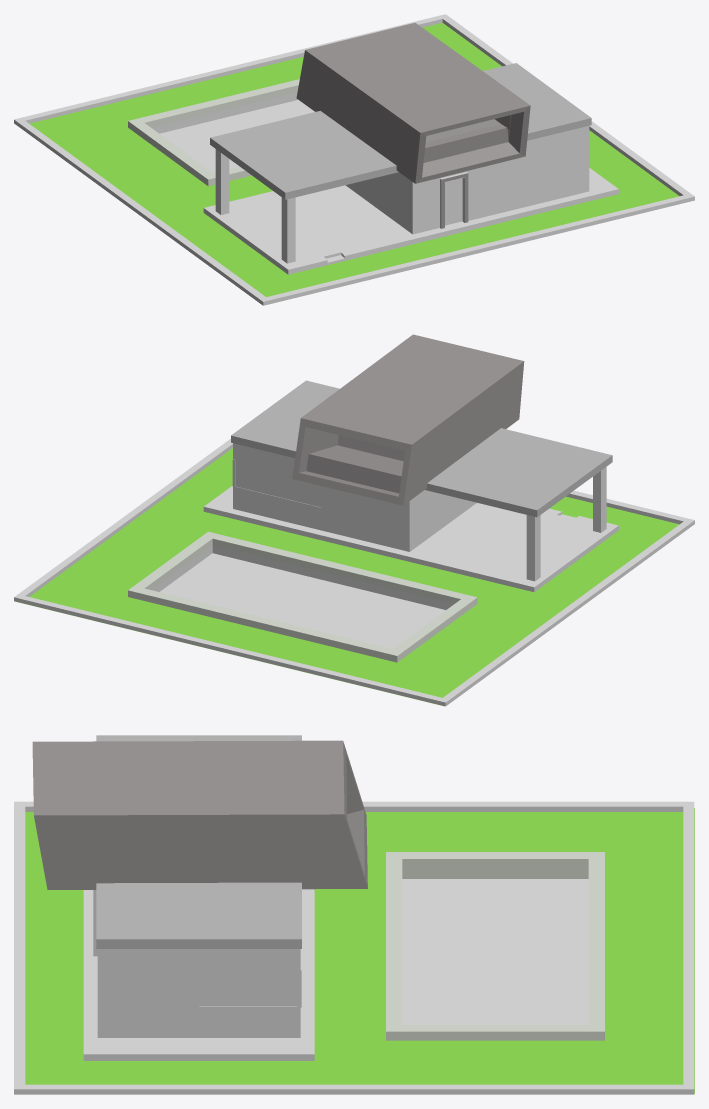
Rendered from modernhome.fbx.
The picture shows the model from 3 angles, top to bottom: view 1: azimuth 30°, elevation 25°; view 2: azimuth 150°, elevation 25°; view 3: azimuth 270°, elevation 25°; orthographic projection. The views are drawn at different scales.
Parts seen in each view (by area): view 1: Plane, Cube.002, Cube.001, Plane.001, Plane.007, Cube, Plane.002, Cube.011, Plane.003, Cube.004, Cube.003, Cube.010 (+1 smaller); view 2: Plane, Cube.002, Cube.001, Plane.001, Cube.011, Plane.007, Plane.002, Cube, Plane.003, Cube.007, Cube.003, Cube.004; view 3: Plane, Cube.002, Cube.011, Plane.007, Cube.001, Cube, Plane.002, Plane.001, Cube.006.
Part boxes in pixels (x1,y1,x2,y2): Plane: [29, 23, 679, 296]; Cube.002: [296, 22, 530, 183]; Cube.001: [210, 63, 591, 199]; Plane.001: [203, 168, 618, 274]; Plane.007: [14, 14, 694, 305]; Cube: [345, 126, 589, 234]; Plane.002: [128, 79, 299, 186]; Cube.011: [159, 100, 314, 172]; Plane.003: [151, 92, 297, 133]; Cube.004: [281, 197, 295, 263]; Cube.003: [215, 149, 229, 214]; Cube.010: [445, 178, 462, 225]; Plane: [15, 448, 679, 706]; Cube.002: [292, 334, 524, 505]; Cube.001: [231, 380, 612, 517]; Plane.001: [203, 486, 618, 592]; Cube.011: [159, 553, 445, 648]; Plane.007: [14, 438, 694, 706]; Plane.002: [128, 531, 477, 662]; Cube: [233, 443, 476, 551]; Plane.003: [151, 545, 453, 609]; Cube.007: [236, 460, 321, 507]; Cube.003: [526, 515, 540, 581]; Cube.004: [593, 467, 606, 532]; Plane: [25, 808, 694, 1093]; Cube.002: [32, 740, 367, 889]; Cube.011: [402, 879, 588, 1024]; Plane.007: [14, 801, 694, 1094]; Cube.001: [96, 735, 301, 948]; Cube: [93, 890, 300, 1037]; Plane.002: [386, 852, 604, 1040]; Plane.001: [83, 889, 314, 1060]; Cube.006: [199, 970, 296, 1006].
Bounding box in the file's own units: 590 × 202 × 590.
